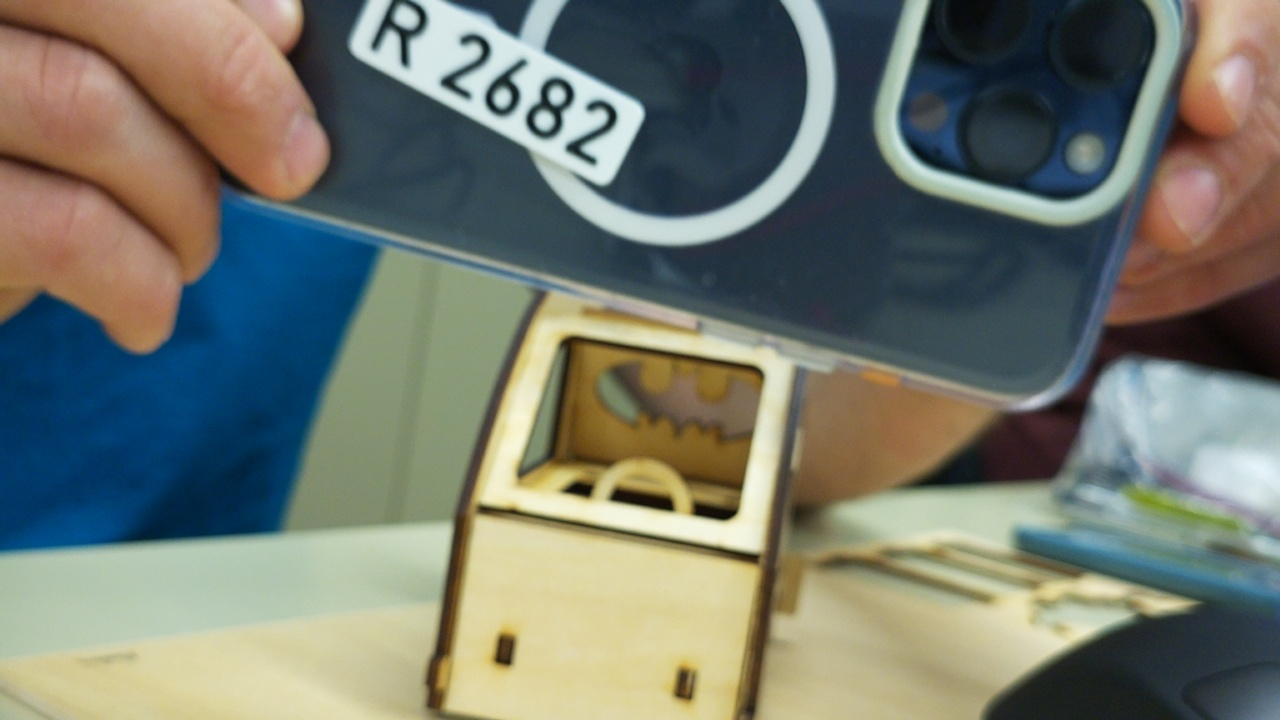license_plate: (345, 0, 649, 189)
